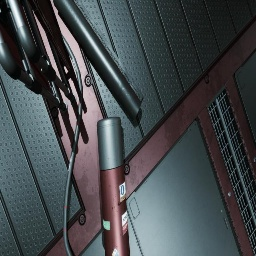NitrogenTank ,: (96, 116, 130, 256)
